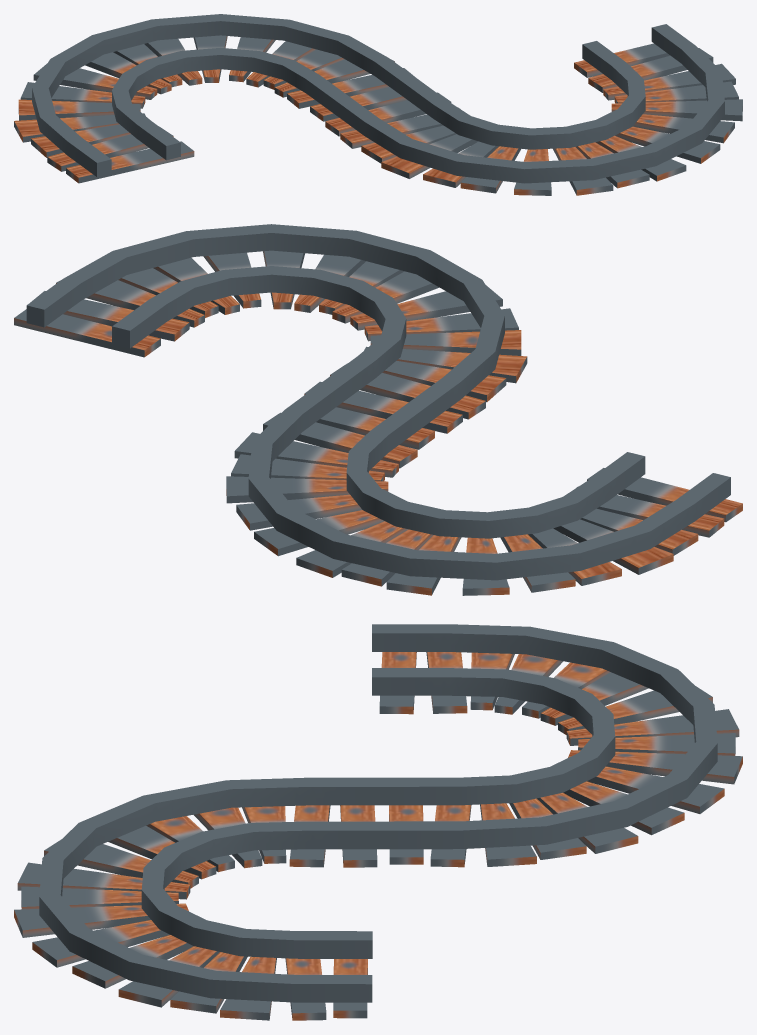
File: long_turn_r_5.fbx
3 renders of one model, top to bottom at view 1: azimuth 30°, elevation 25°; view 2: azimuth 150°, elevation 25°; view 3: azimuth 270°, elevation 25°, orthographic. The views are drawn at different scales.
Parts seen in each view (by area): view 1: long_turn_r_5; view 2: long_turn_r_5; view 3: long_turn_r_5.
Boxes of the visible parts, x1,y1,x2,y2 form: long_turn_r_5: (14, 14, 742, 195); long_turn_r_5: (14, 224, 742, 595); long_turn_r_5: (14, 624, 742, 1020).
Bounding box in the file's own units: 64.33 × 2.08 × 52.11.
